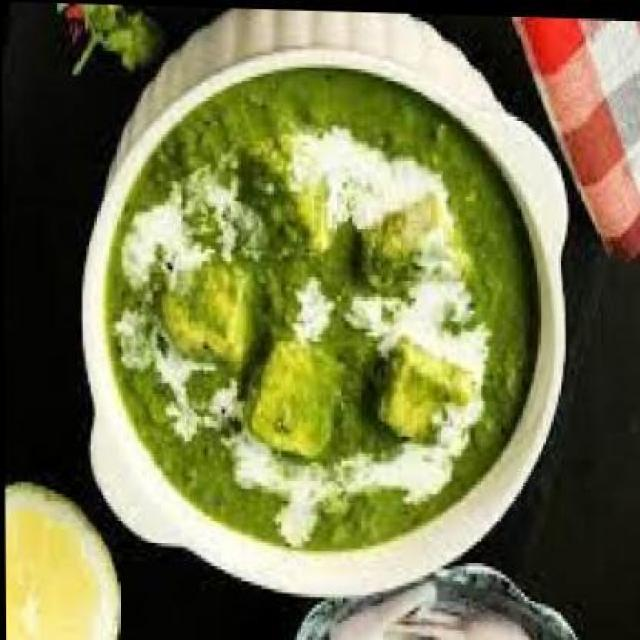palak_paneer: (101, 58, 542, 556)
